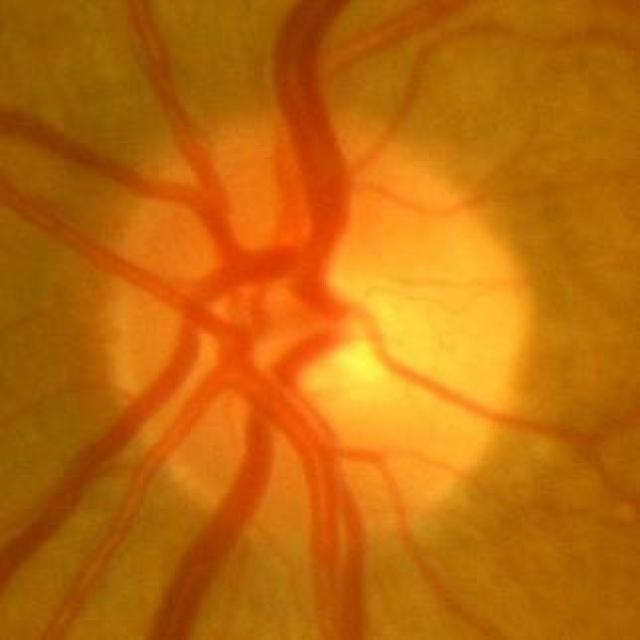OC: (247, 258, 414, 403)
OD: (102, 119, 528, 543)
